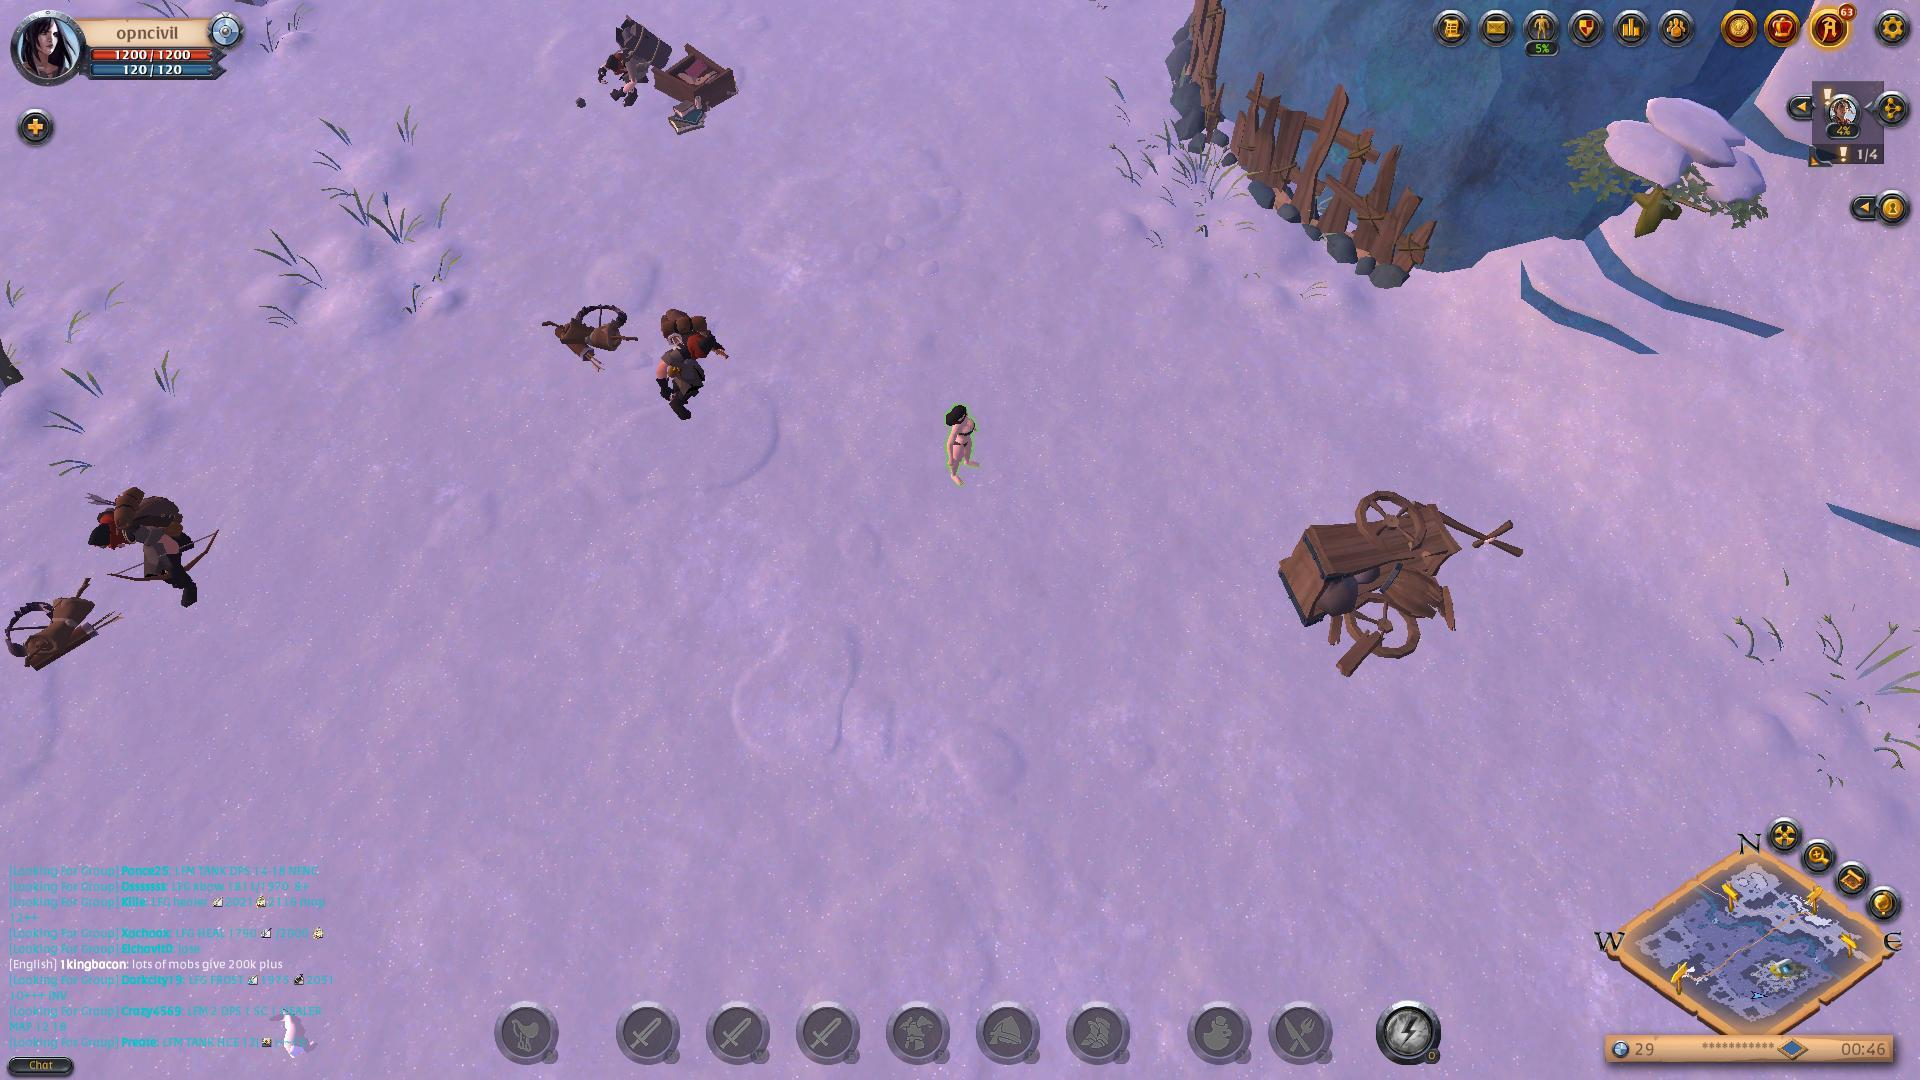mob: (90, 479, 214, 612), (650, 298, 737, 422), (588, 12, 670, 112)
